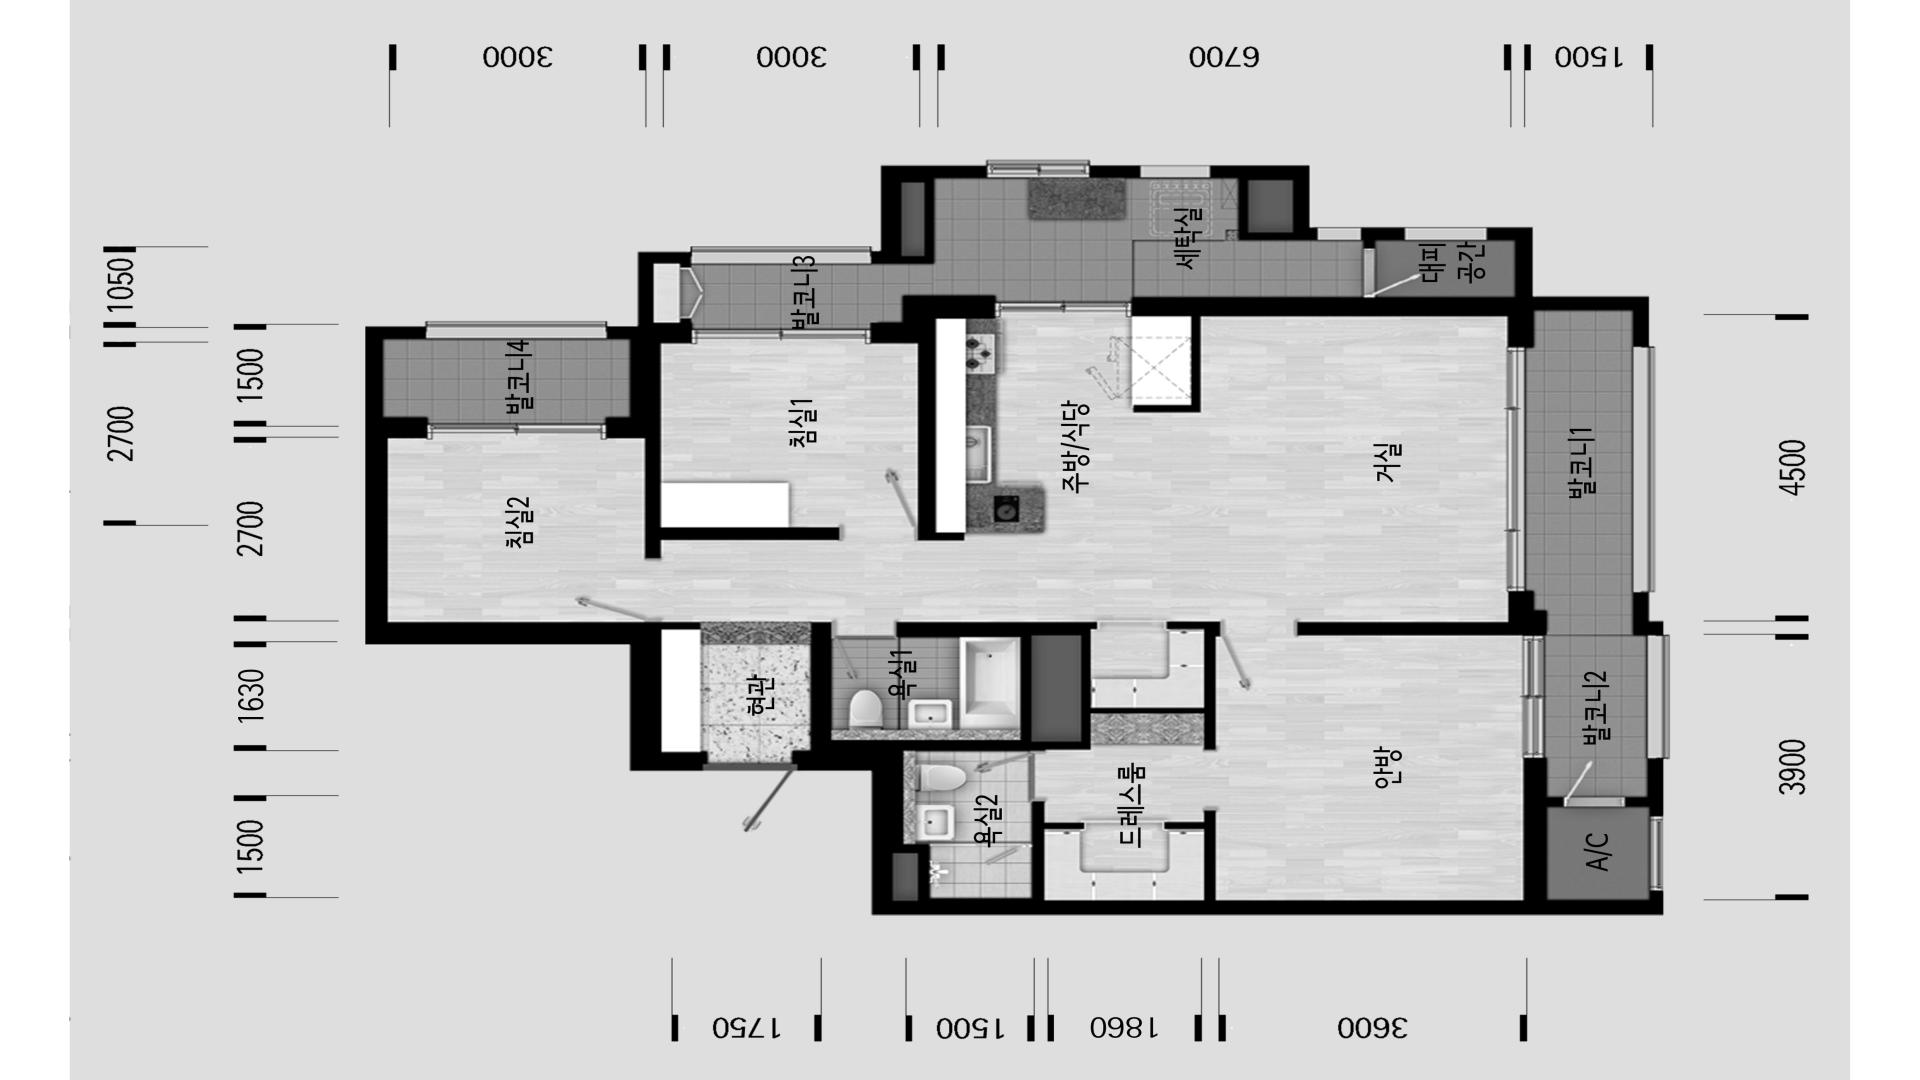door: (702, 764, 798, 832), (567, 558, 662, 622), (839, 467, 918, 542), (829, 620, 901, 698), (1221, 622, 1296, 694), (973, 752, 1046, 802), (1362, 248, 1427, 298), (1563, 757, 1626, 807)
wall: (798, 740, 1664, 915), (364, 326, 703, 771), (607, 318, 839, 558), (1131, 297, 1535, 413), (901, 620, 1221, 752), (869, 295, 996, 541), (1485, 227, 1650, 347), (870, 166, 988, 265), (1296, 591, 1547, 636), (1209, 165, 1317, 241), (607, 252, 691, 340), (1523, 757, 1563, 899), (1030, 800, 1084, 899), (1030, 636, 1080, 741), (1163, 811, 1216, 899), (1238, 181, 1292, 241), (902, 182, 935, 264), (810, 621, 832, 741), (903, 844, 931, 899), (1631, 592, 1664, 636), (1647, 758, 1664, 816), (388, 417, 427, 439), (1091, 165, 1141, 179), (1361, 227, 1404, 241), (661, 621, 702, 630), (1626, 796, 1648, 807), (1364, 241, 1375, 248), (680, 264, 692, 268)
window: (1506, 348, 1535, 591), (1631, 347, 1655, 592), (692, 322, 872, 344), (427, 417, 607, 439), (691, 245, 870, 266), (425, 320, 607, 340), (1522, 636, 1547, 757), (1646, 634, 1669, 758), (994, 295, 1133, 316), (988, 160, 1091, 179), (1648, 816, 1664, 890), (1404, 227, 1486, 240), (1139, 165, 1211, 178), (1317, 227, 1361, 241)
